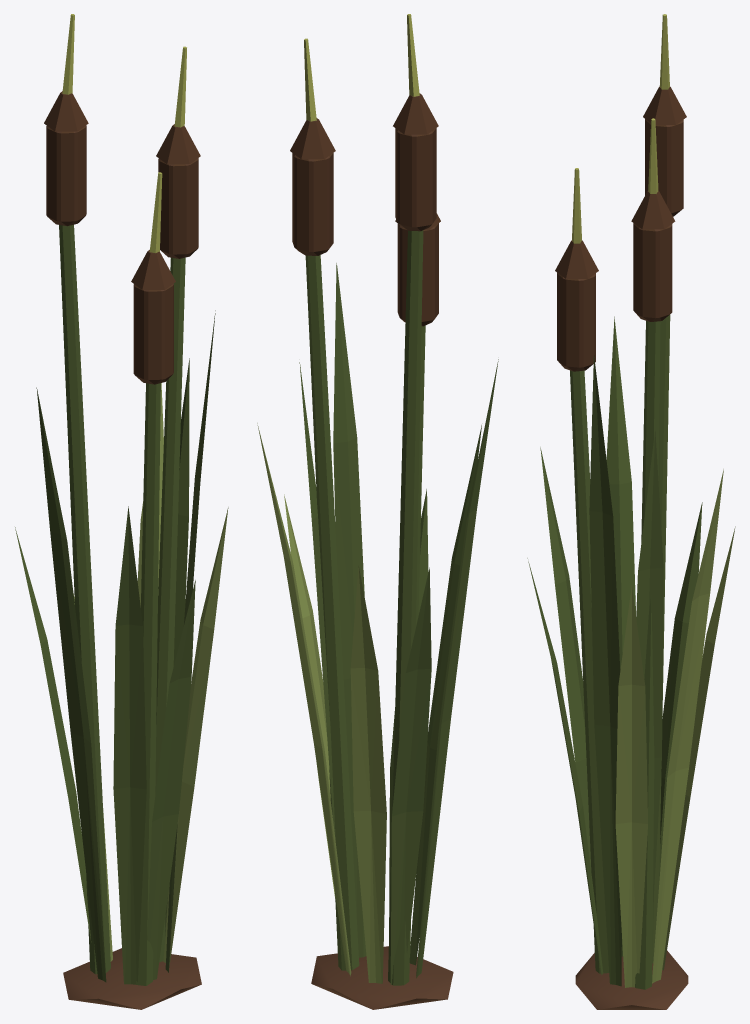
The model's file is foliage_cattail_a.glb.
The picture shows the model from 3 angles, left to right: view 1: azimuth 30°, elevation 25°; view 2: azimuth 150°, elevation 25°; view 3: azimuth 270°, elevation 25°; orthographic projection. The views are drawn at different scales.
Parts seen in each view (by area): view 1: cattail_blade_01, cattail_base_mud, cattail_blade_00, cattail_spike_0; view 2: cattail_blade_01, cattail_base_mud, cattail_blade_00, cattail_spike_0; view 3: cattail_blade_01, cattail_blade_00, cattail_base_mud, cattail_spike_0.
Boxes of the visible parts, x1,y1,x2,y2 form: cattail_blade_01: [15, 224, 215, 985]; cattail_base_mud: [44, 91, 201, 1009]; cattail_blade_00: [73, 383, 228, 964]; cattail_spike_0: [62, 14, 186, 253]; cattail_blade_01: [299, 230, 498, 985]; cattail_base_mud: [290, 93, 453, 1009]; cattail_blade_00: [257, 423, 386, 983]; cattail_spike_0: [304, 14, 419, 121]; cattail_blade_01: [527, 314, 702, 989]; cattail_blade_00: [615, 469, 735, 987]; cattail_base_mud: [555, 86, 688, 1009]; cattail_spike_0: [572, 14, 669, 243].
Size of the model in its own units: 0.3091 by 1.43 by 0.2834.
